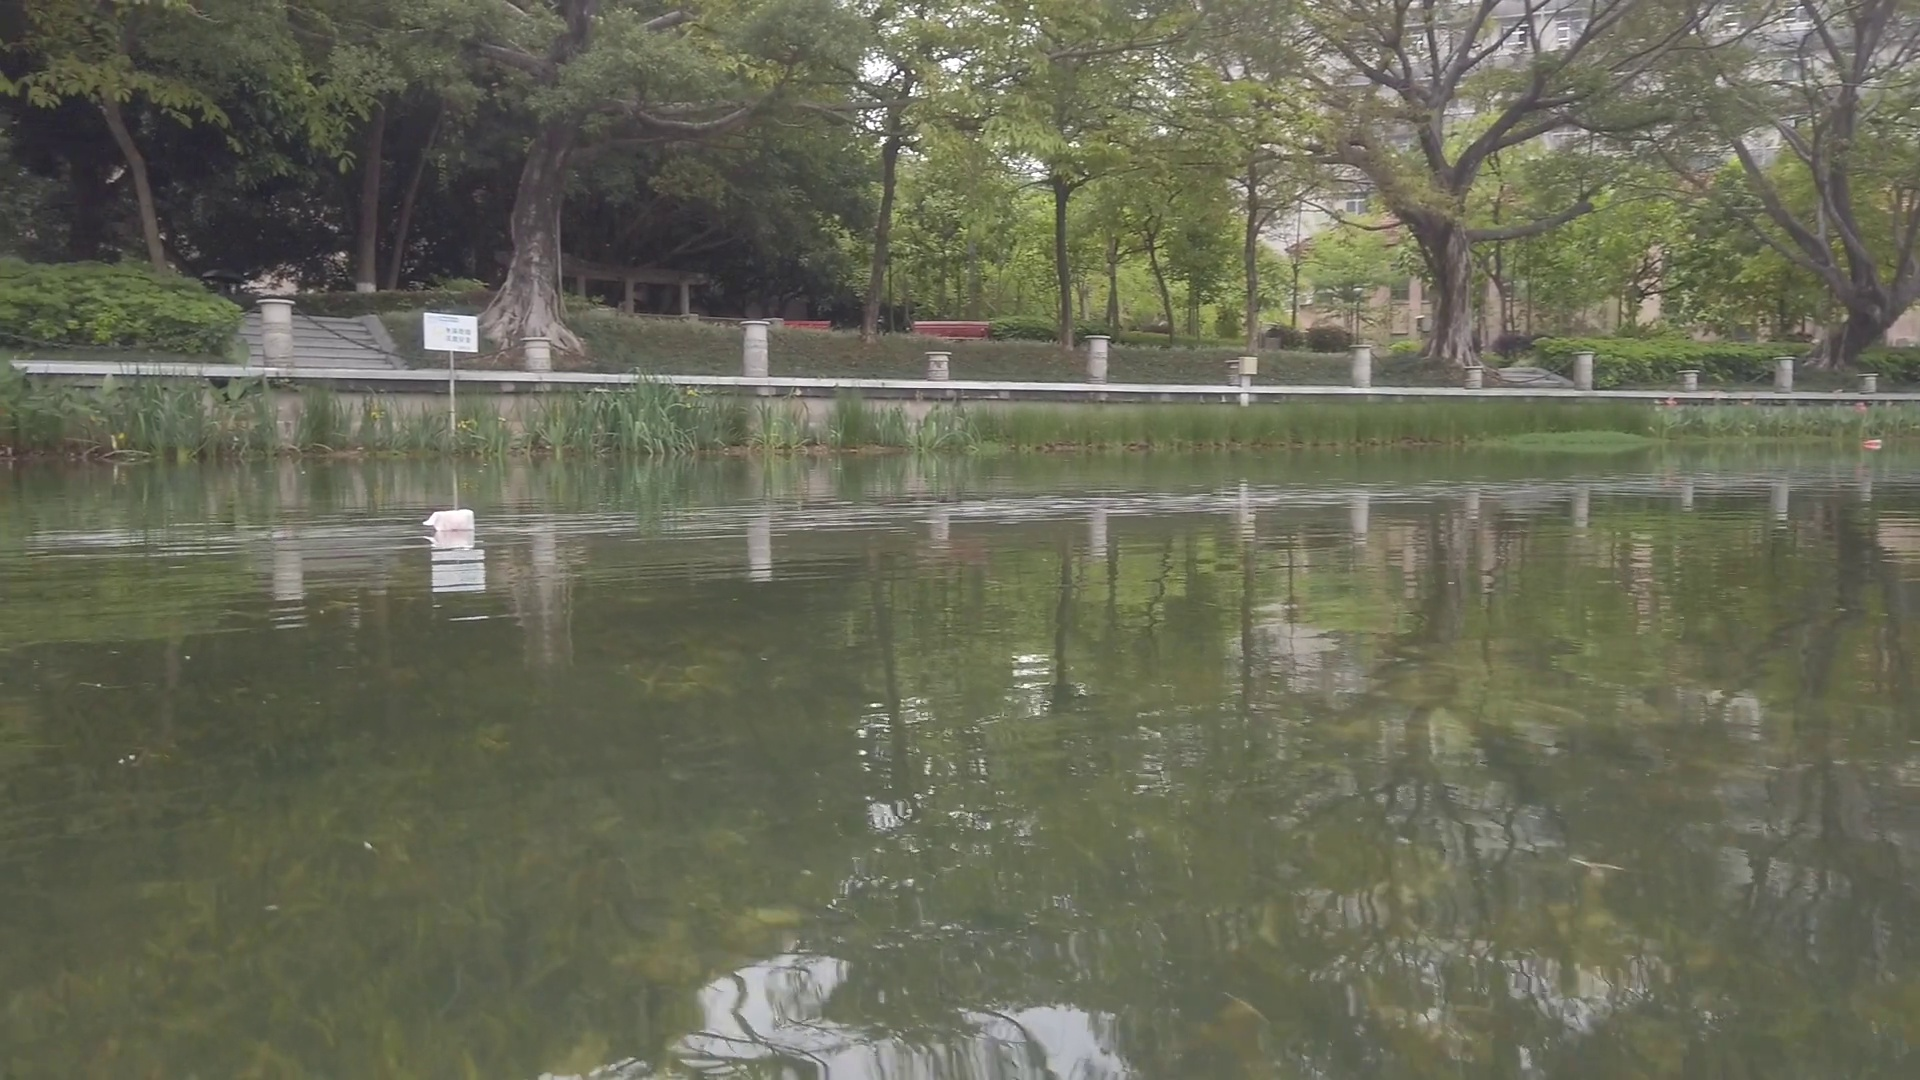bottle: (1865, 439, 1883, 444)
carton: (426, 512, 473, 533)
